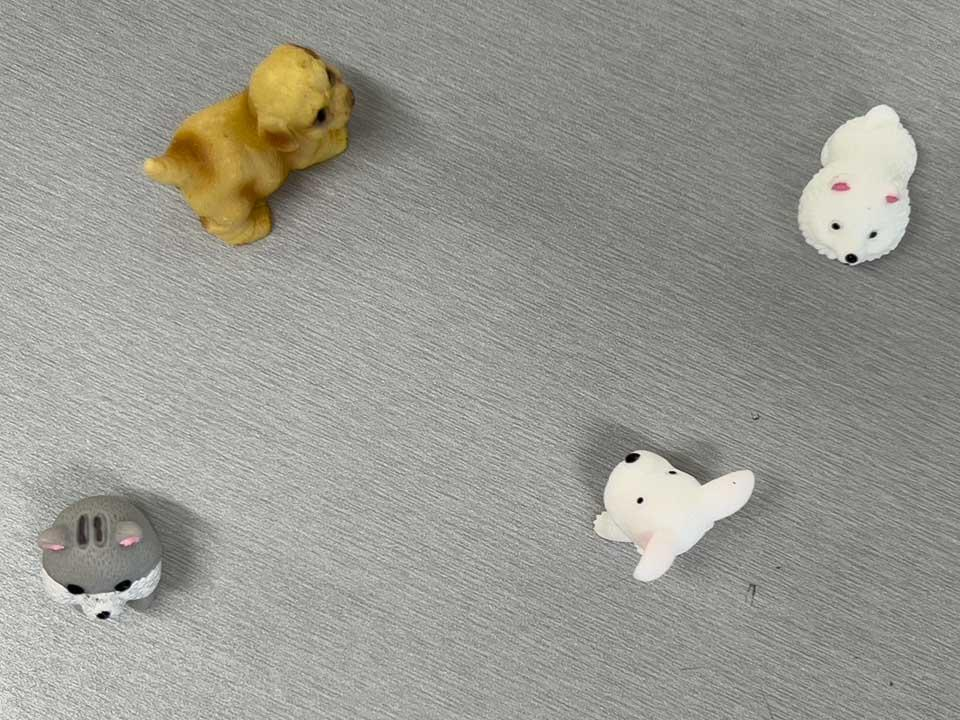pet: (140, 42, 358, 247), (592, 448, 759, 580), (793, 103, 922, 265), (37, 492, 169, 625)
